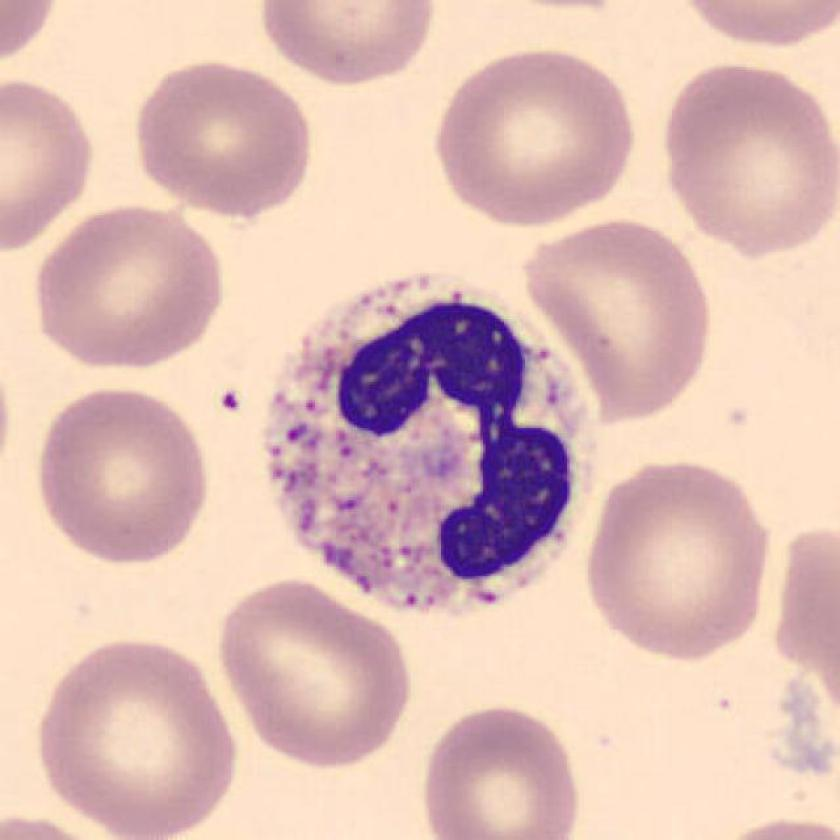neutrophil: (266, 278, 594, 611)
